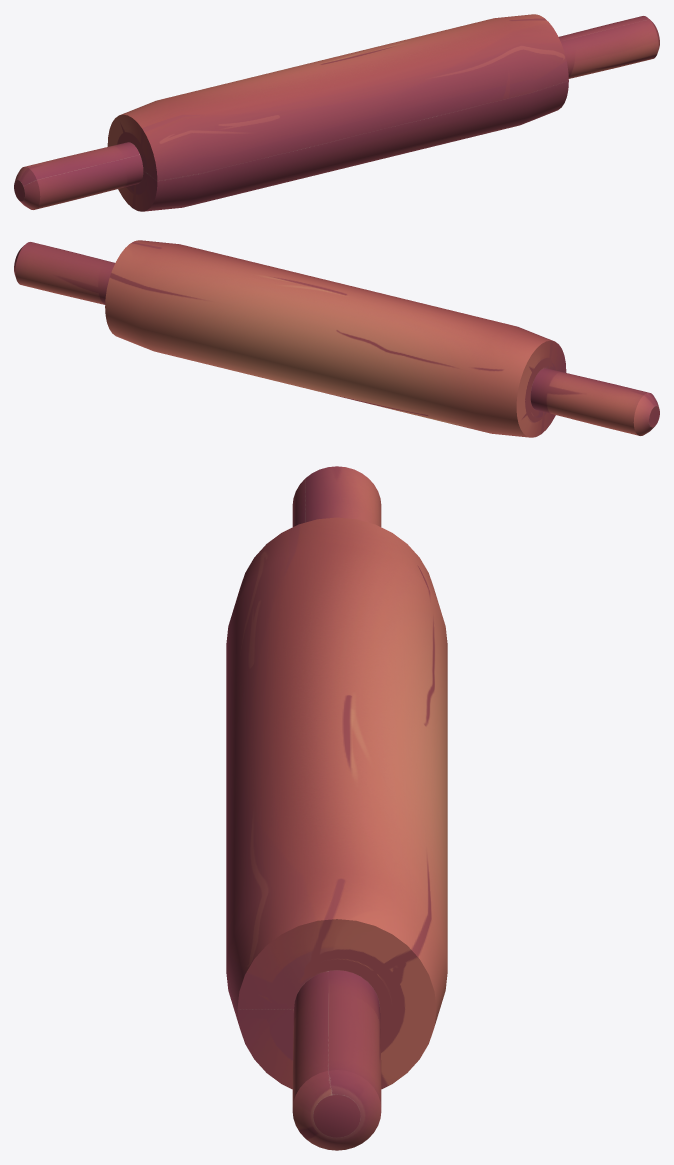
The model's file is rolling pin shump asset.fbx.
3 renders of one model, top to bottom at view 1: azimuth 30°, elevation 25°; view 2: azimuth 150°, elevation 25°; view 3: azimuth 270°, elevation 25°, orthographic. The views are drawn at different scales.
Parts seen in each view (by area): view 1: rolling pin; view 2: rolling pin; view 3: rolling pin.
Boxes of the visible parts, box(x1,y1,x2,y2) form: rolling pin: box(14, 14, 659, 211); rolling pin: box(14, 240, 659, 437); rolling pin: box(226, 466, 447, 1150).
Bounding box in the file's own units: 404 × 61.12 × 61.12.
